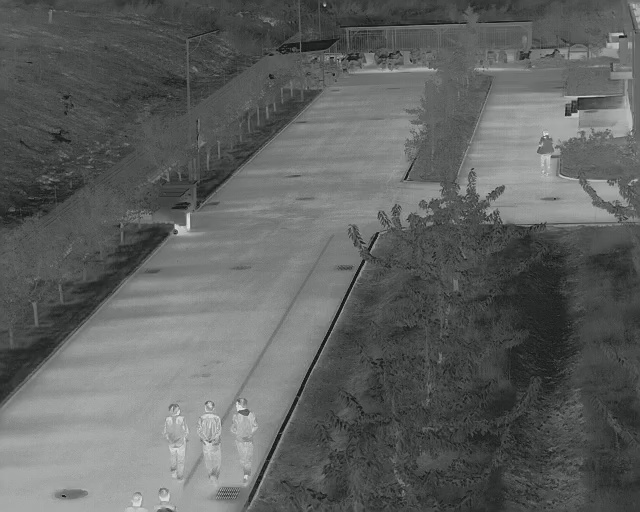person: (228, 398, 257, 483), (160, 405, 189, 478), (199, 402, 223, 483), (536, 130, 554, 174)
